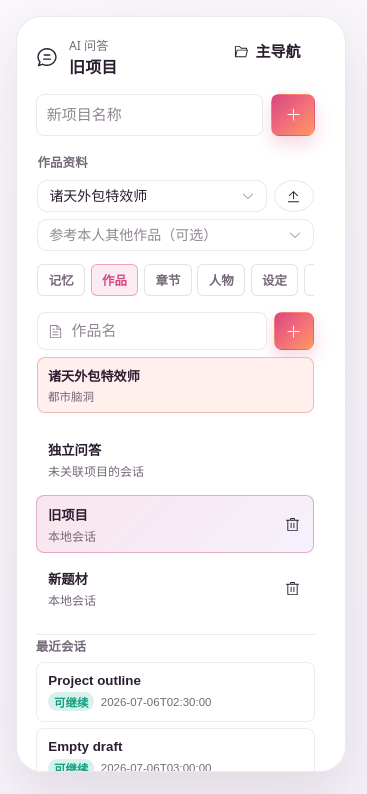
Test: KnowledgeProjectSpace › shows all ten scoped knowledge entries and creates works
This screenshot has width=367, height=794.
Expected: the tab with test id "knowledge-tab-memory" reads "记忆", [37,264,85,296]
Expected: the tab with test id "knowledge-tab-chapters" reads "章节", [144,264,192,296]
Type "新书项目" into the field with placeholder "作品名" at (164, 331), box [71,316,256,346]
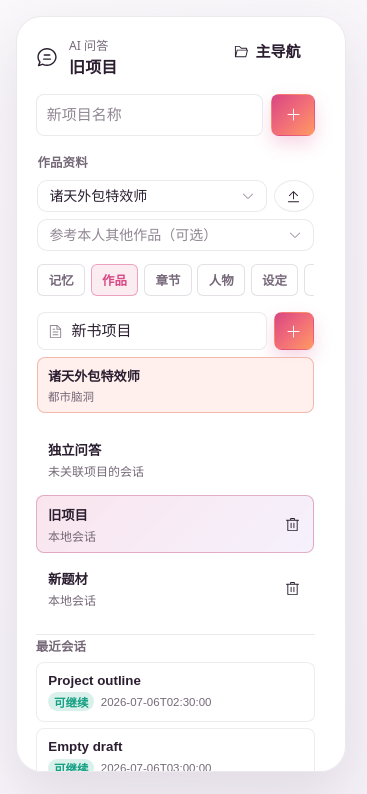
Click the button with test id "knowledge-create-work" at (294, 331), box [274,312,314,350]
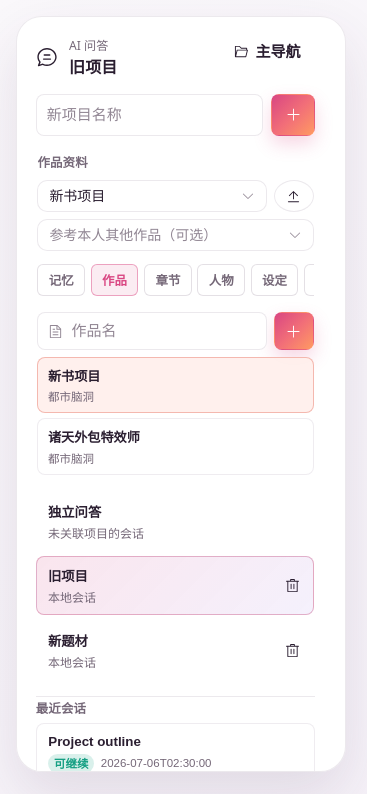
Expected: the button with test id "knowledge-work-88" is shown, [37,356,314,413]
